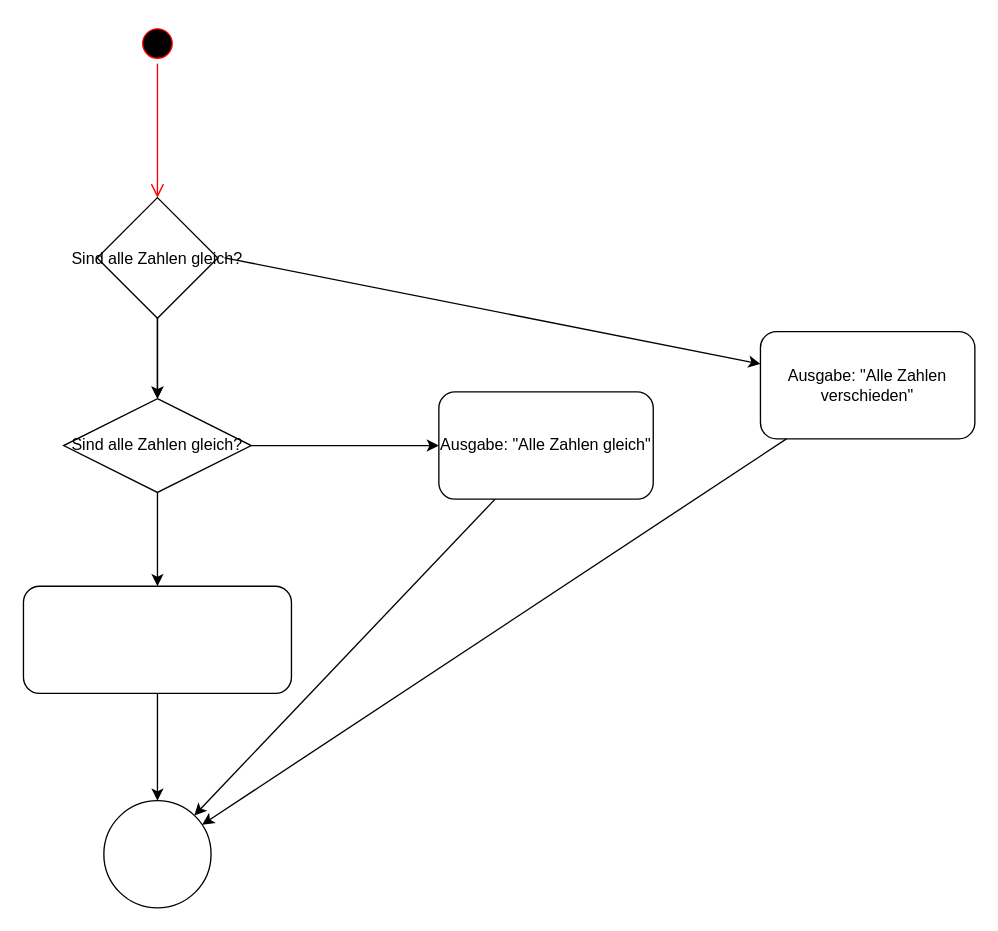
Image size: 998x931. Some labels were removed from this diagram. The shapes that lost their labels are listed below. From the top down, each one's centre as x and y in pixels, then its label:
At pixel 156 639: "Zwei Zahlen sind gleich, nämlich X".
At pixel 157 853: "Ende".
